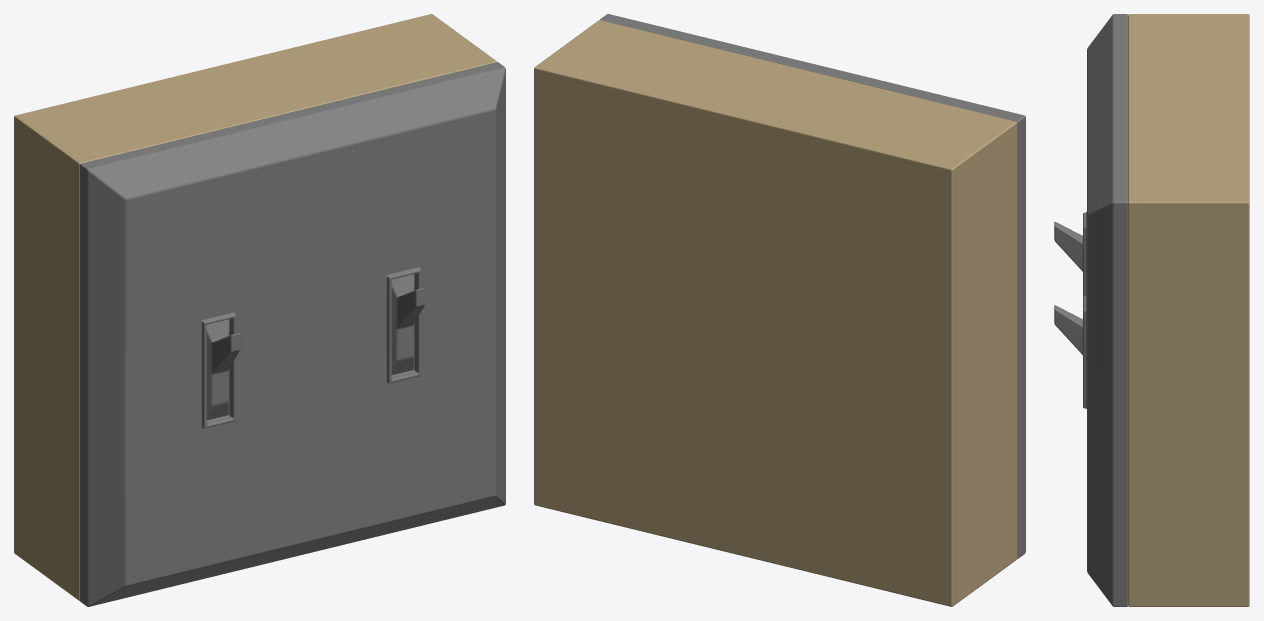
File: lightswtich_high.fbx
3 renders of one model, left to right at view 1: azimuth 30°, elevation 25°; view 2: azimuth 150°, elevation 25°; view 3: azimuth 270°, elevation 25°, orthographic. The views are drawn at different scales.
Parts seen in each view (by area): view 1: Object003; view 2: Object003; view 3: Object003.
Part boxes in pixels (x1,y1,x2,y2): Object003: [14, 14, 505, 606]; Object003: [534, 14, 1025, 606]; Object003: [1054, 14, 1249, 606].
Size of the model in its own units: 11 by 11 by 4.81.
